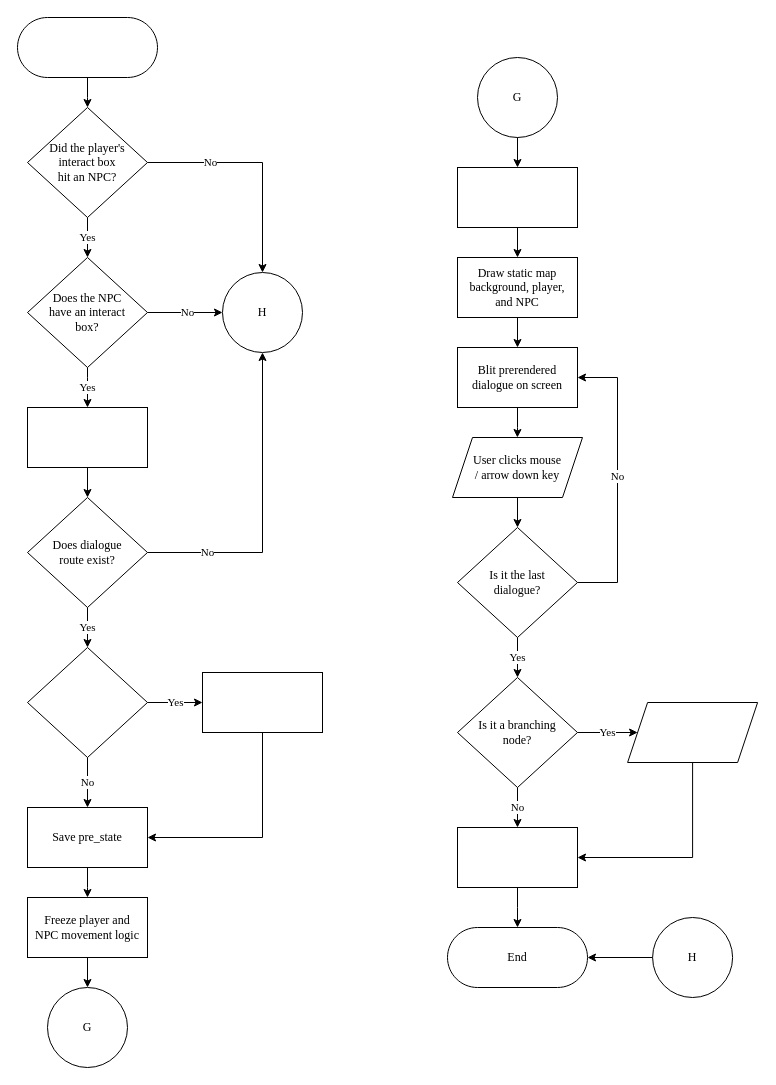
Some shapes in this 776 by 1085 pixel diagram are drawn without their labels. The shapes that lost their labels are listed below. From the top down, each one's box as (x1, y1, x2, y2) in pixels, then its label:
(16, 16, 158, 78): Start: Dialogue System Algorithm
(456, 166, 578, 228): Enter dialogue state
(26, 406, 148, 468): Look up dialogue routing table
(26, 646, 148, 758): Did the player already talk with this NPC?
(202, 672, 322, 732): Display short repeat of dialogue
(627, 702, 758, 762): User selects from choices
(456, 826, 578, 888): Set completion flag
